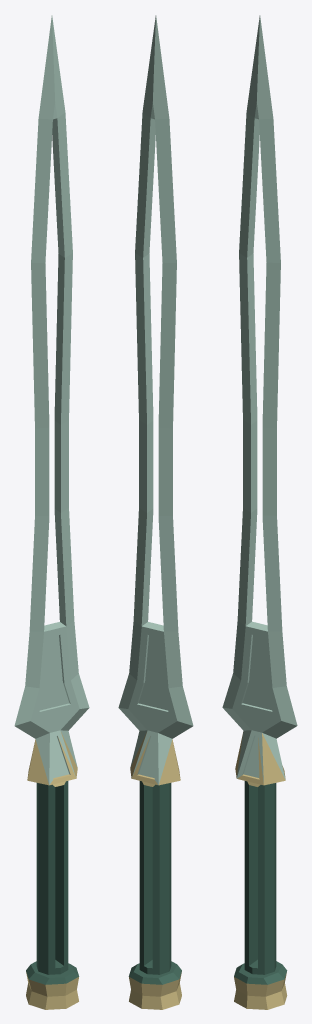
The picture shows the model from 3 angles, left to right: view 1: azimuth 30°, elevation 25°; view 2: azimuth 150°, elevation 25°; view 3: azimuth 330°, elevation 25°; orthographic projection.
Size of the model in its own units: 0.0792 by 1 by 0.0505.
